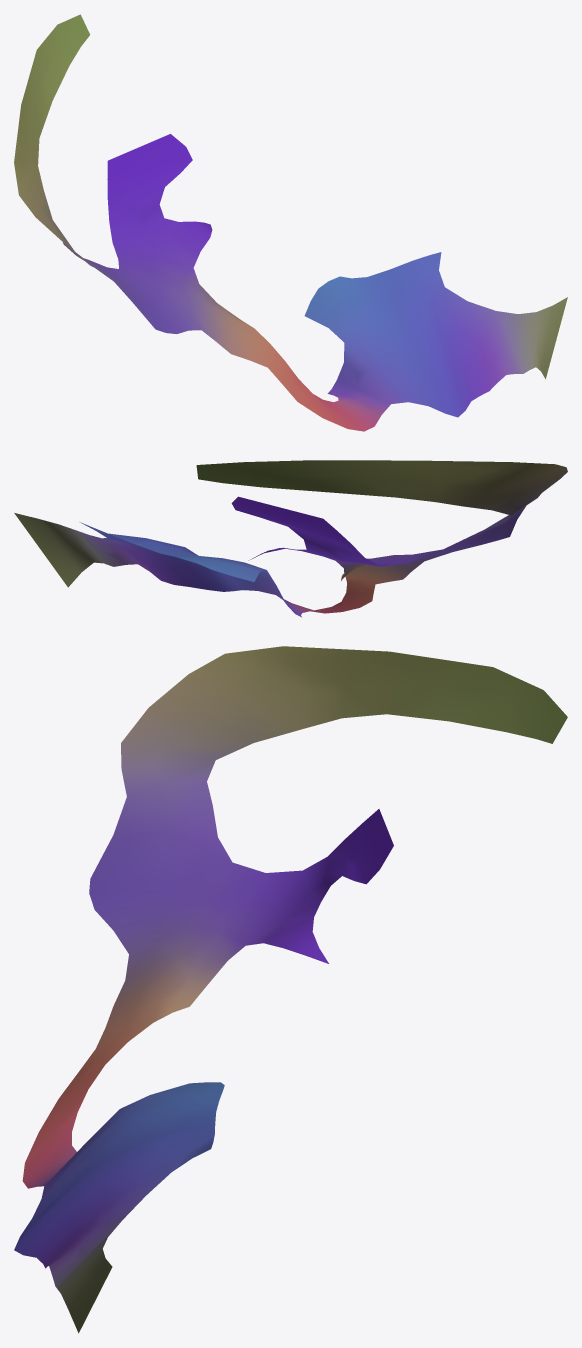
File: space-nebulae-nebula_v48.glb
3 renders of one model, top to bottom at view 1: azimuth 30°, elevation 25°; view 2: azimuth 150°, elevation 25°; view 3: azimuth 270°, elevation 25°, orthographic. The views are drawn at different scales.
Parts seen in each view (by area): view 1: Nebula_v48; view 2: Nebula_v48; view 3: Nebula_v48.
Part boxes in pixels (x1,y1,x2,y2): Nebula_v48: (14,14,567,431); Nebula_v48: (14,460,567,617); Nebula_v48: (14,646,567,1333).
Bounding box in the file's own units: 0.5 × 0.2911 × 0.3416.
